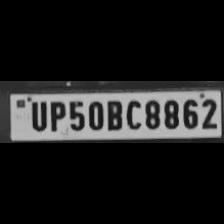0: (86, 98, 104, 130)
2: (199, 96, 219, 130)
5: (65, 97, 85, 130)
6: (180, 96, 198, 130)
8: (141, 96, 161, 130), (160, 96, 180, 130)
B: (104, 97, 124, 130)
C: (122, 96, 142, 130)
P: (46, 98, 66, 132)
U: (26, 99, 48, 131)
